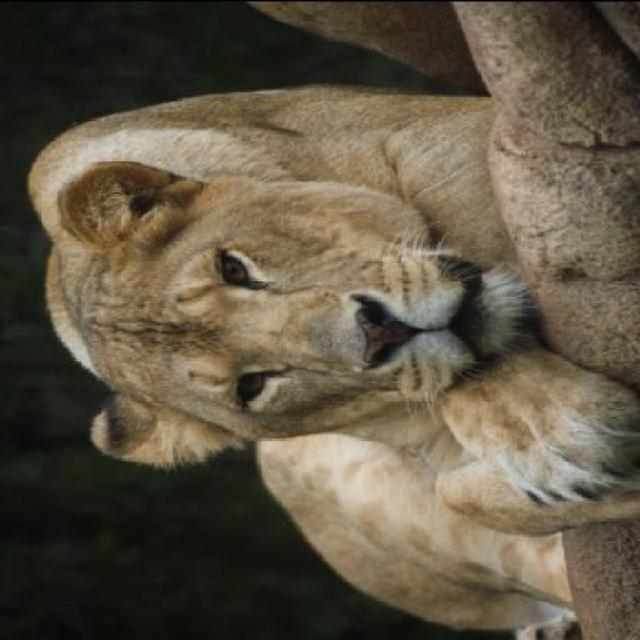Lion: (17, 77, 638, 638)
